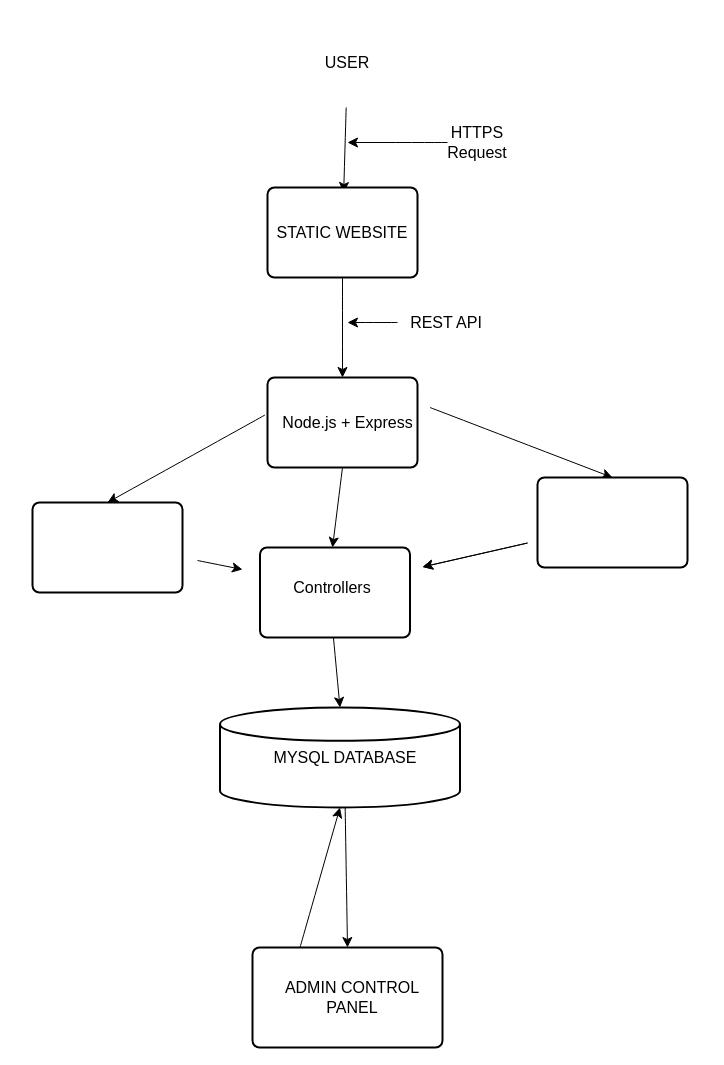
The diagram is 724 pixels wide and 1065 high, and some of its shapes have lost their labels. Each missing label, with the centre of its shape:
Authentication: point (107, 547)
Uploads: point (612, 522)
